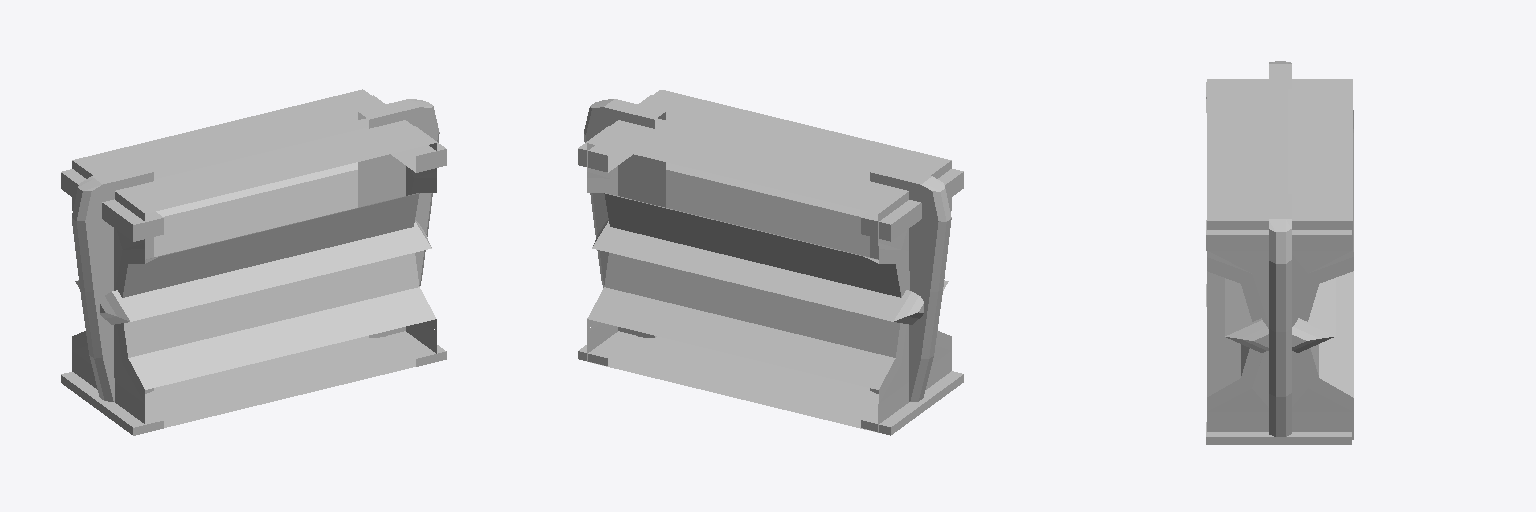
Rendered from bridge2.obj.
3 views of the same model, side by side, from view 1: azimuth 30°, elevation 25°; view 2: azimuth 150°, elevation 25°; view 3: azimuth 270°, elevation 25° (orthographic).
Visible parts, largest first — view 1: bridge2; view 2: bridge2; view 3: bridge2.
Part boxes in pixels (left/top/right/bottom): bridge2: left=61, top=89, right=446, bottom=435; bridge2: left=578, top=90, right=963, bottom=435; bridge2: left=1206, top=61, right=1353, bottom=444.
Size of the model in its own units: 39.87 by 23.98 by 13.98.